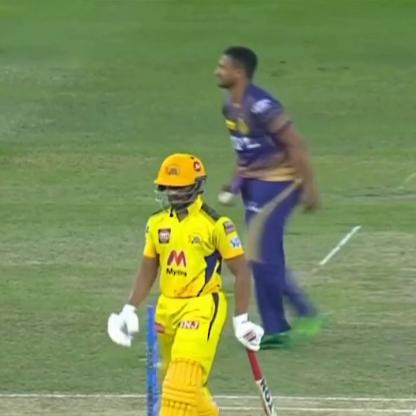ball: (213, 189, 240, 206)
